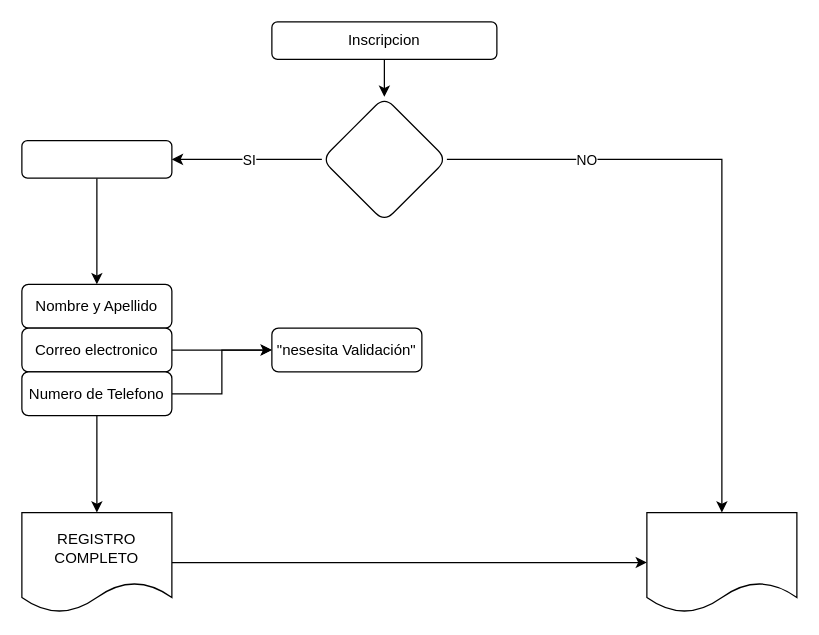
This 819x635 diagram has some shape labels left out. The box of each missing label's shape, as (x1, y1, x2, y2) in pixels:
"GRASIAS POR VISITARNOS": (646, 511, 797, 612)
Deseas recibir Promociones: (321, 96, 447, 222)
Formulario: (21, 139, 172, 178)
